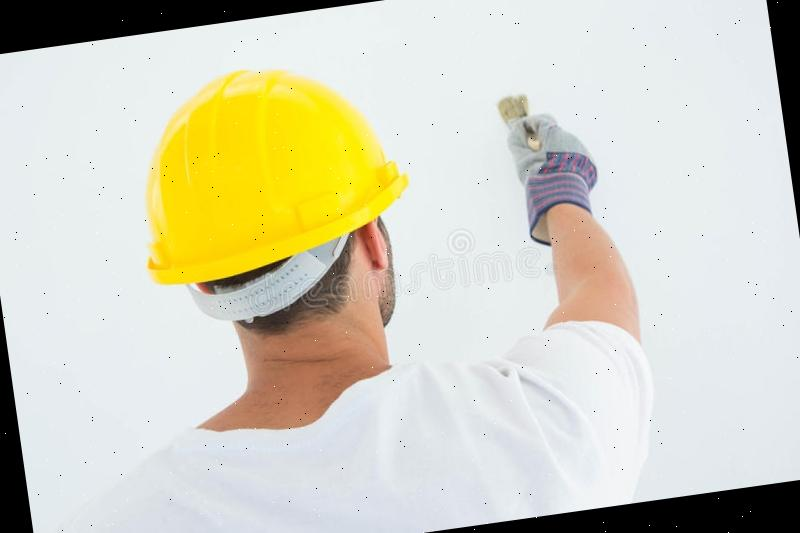helmet: (112, 46, 423, 292)
no_wear: (30, 336, 655, 533)
